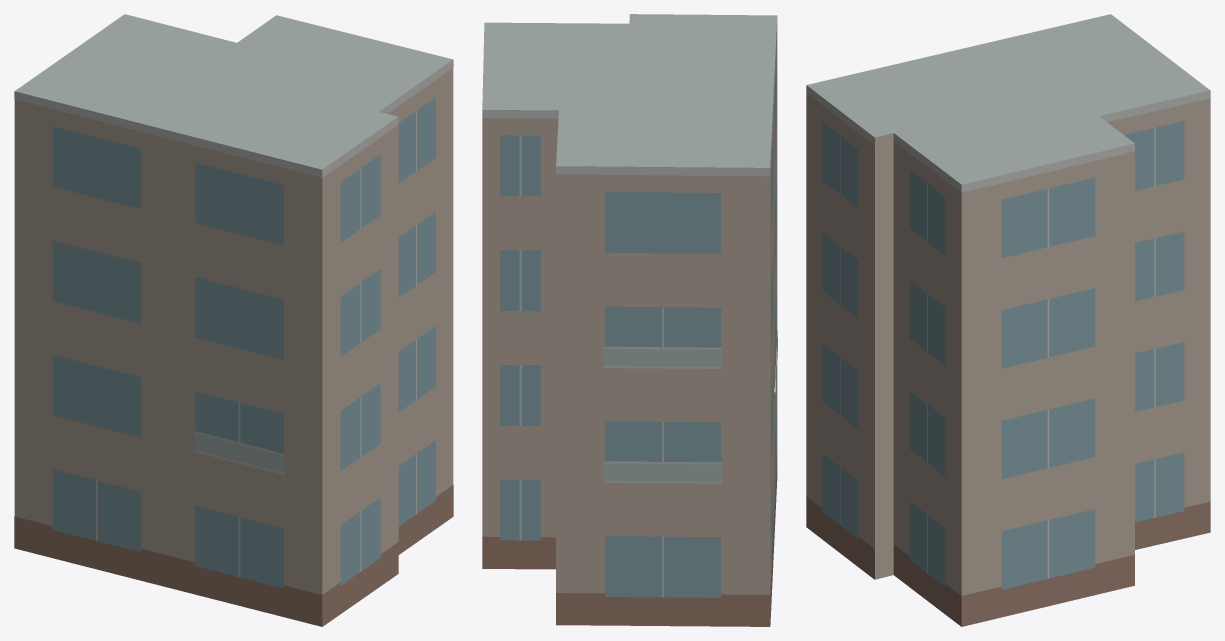
File: survey-upis-32622333.glb
The picture shows the model from 3 angles, left to right: view 1: azimuth 30°, elevation 25°; view 2: azimuth 150°, elevation 25°; view 3: azimuth 270°, elevation 25°; orthographic projection. The views are drawn at different scales.
Parts seen in each view (by area): view 1: survey-upis-32622333.tmp; view 2: survey-upis-32622333.tmp; view 3: survey-upis-32622333.tmp.
Part boxes in pixels (box(x1,y1,x2,y2)): survey-upis-32622333.tmp: box(14, 14, 453, 626); survey-upis-32622333.tmp: box(482, 14, 777, 626); survey-upis-32622333.tmp: box(806, 14, 1210, 626).
Bounding box in the file's own units: 11.19 × 13.5 × 11.19.
